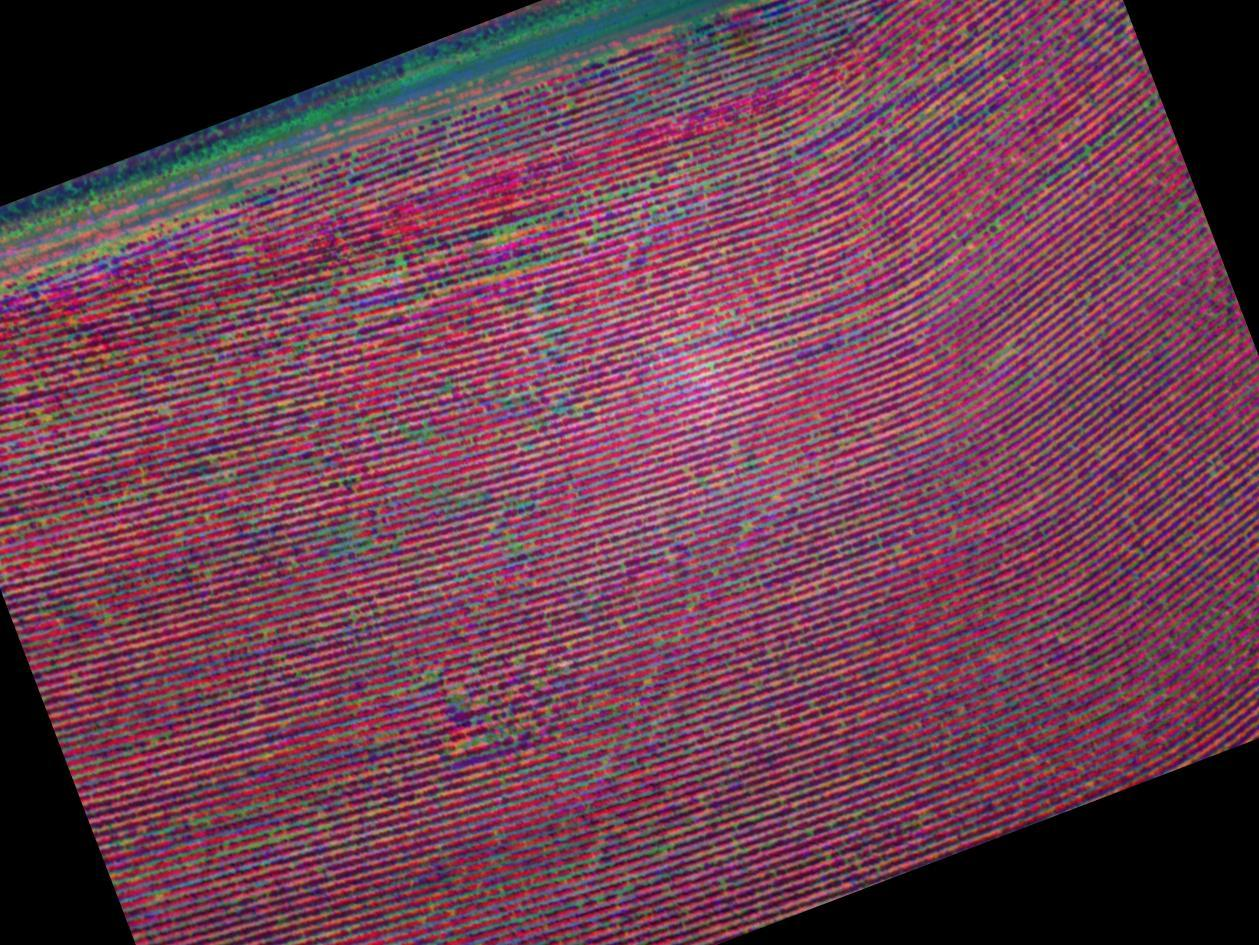dc: (450, 663, 558, 751), (464, 183, 592, 253), (311, 492, 401, 584), (332, 232, 435, 311)
